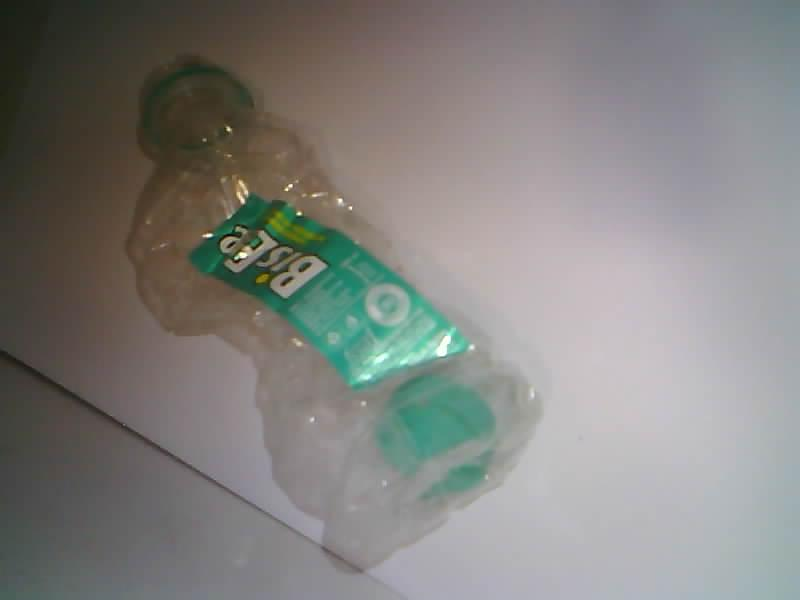non-biodegradable: (129, 64, 539, 567)
